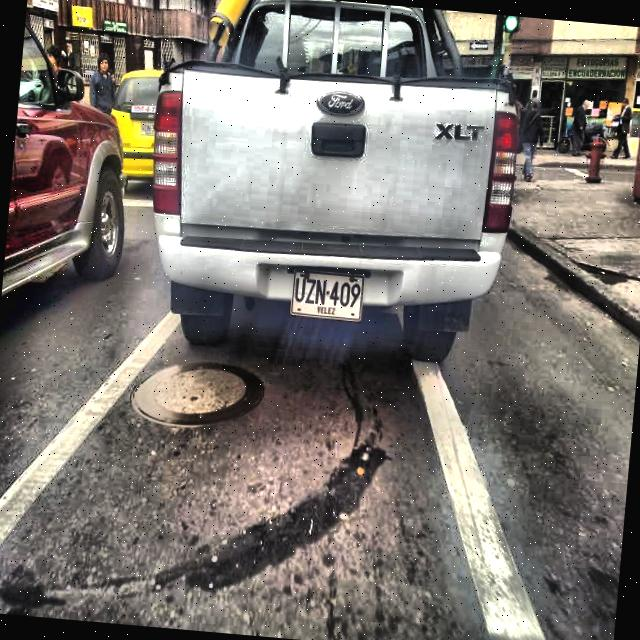plate: (290, 270, 363, 320)
